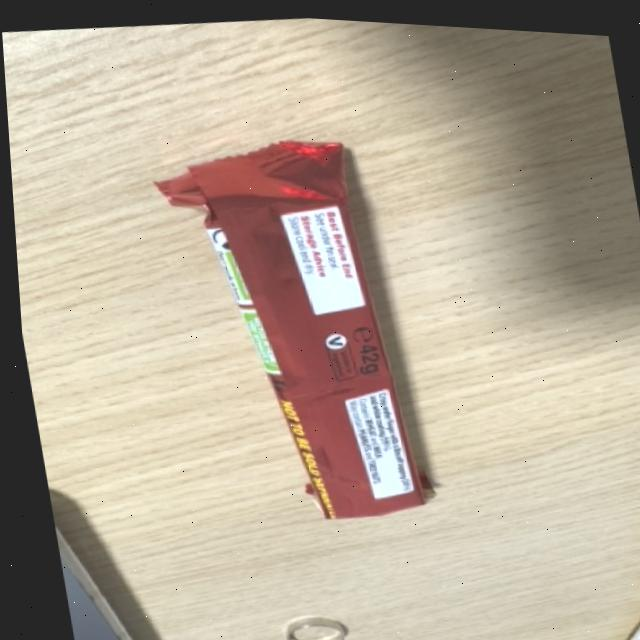chocolate: (136, 107, 450, 543)
